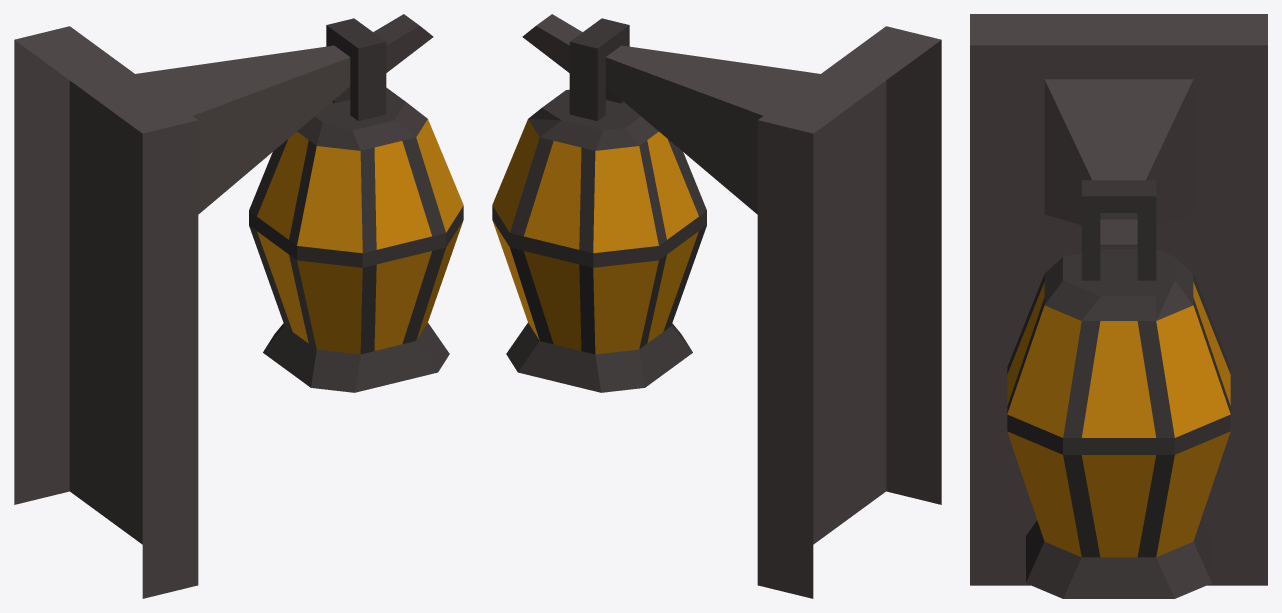
The model's file is model_loc_205_q.obj.
The picture shows the model from 3 angles, left to right: view 1: azimuth 30°, elevation 25°; view 2: azimuth 150°, elevation 25°; view 3: azimuth 270°, elevation 25°; orthographic projection. The views are drawn at different scales.
Visible parts, largest first — view 1: 2110; view 2: 2110; view 3: 2110.
Part boxes in pixels (left/top/right/bottom): 2110: left=14, top=14, right=463, bottom=598; 2110: left=492, top=14, right=941, bottom=598; 2110: left=970, top=14, right=1267, bottom=598.
Bounding box in the file's own units: 52 × 64 × 32.
